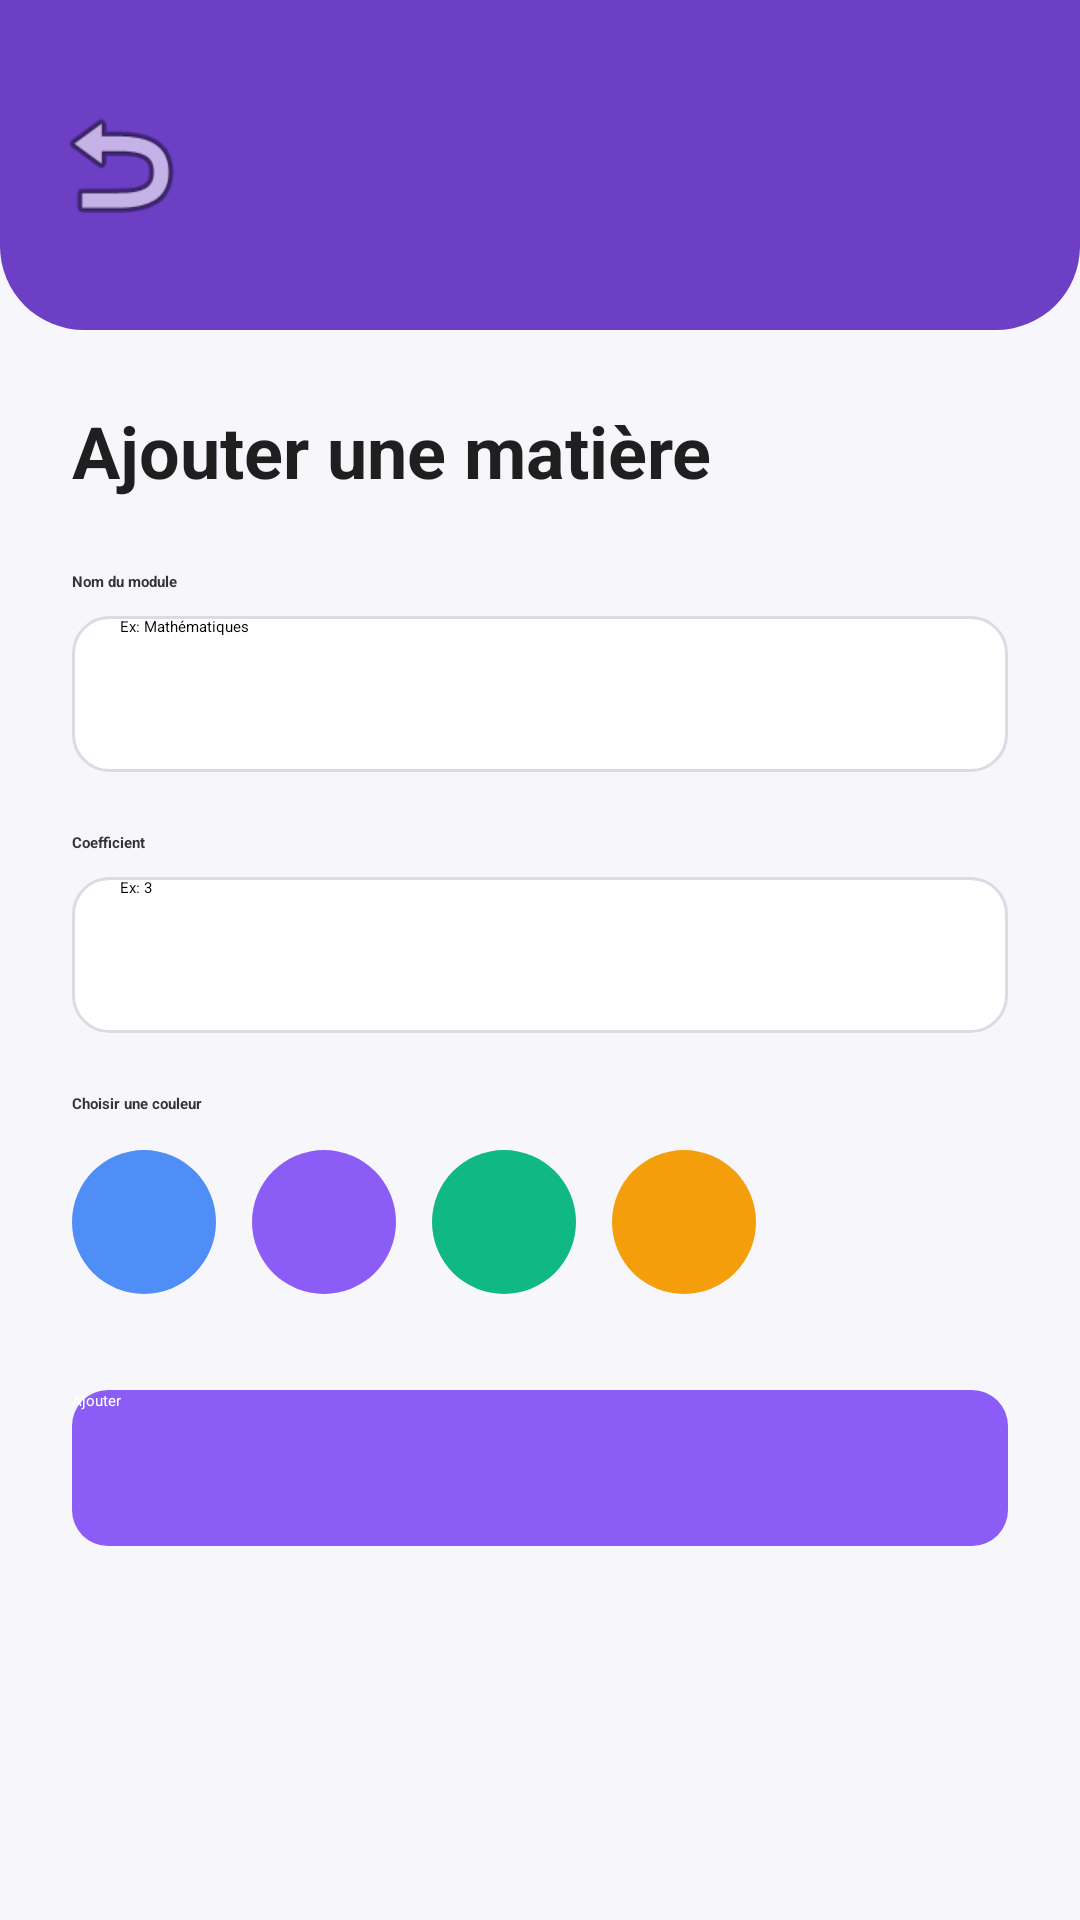

Locate icon controls on the screen. Image size 1080px×1920px, boxes as (x1, y1, x2, y2).
Retour: (70, 119, 174, 213)
